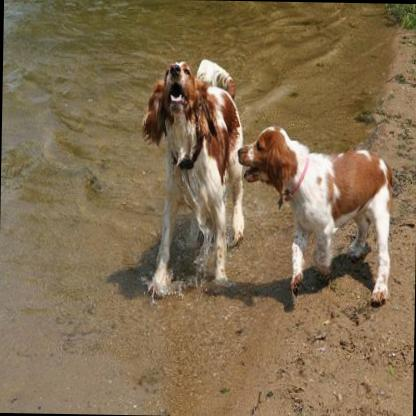Welsh_springer_spaniel: (231, 119, 395, 307), (133, 51, 247, 298)
